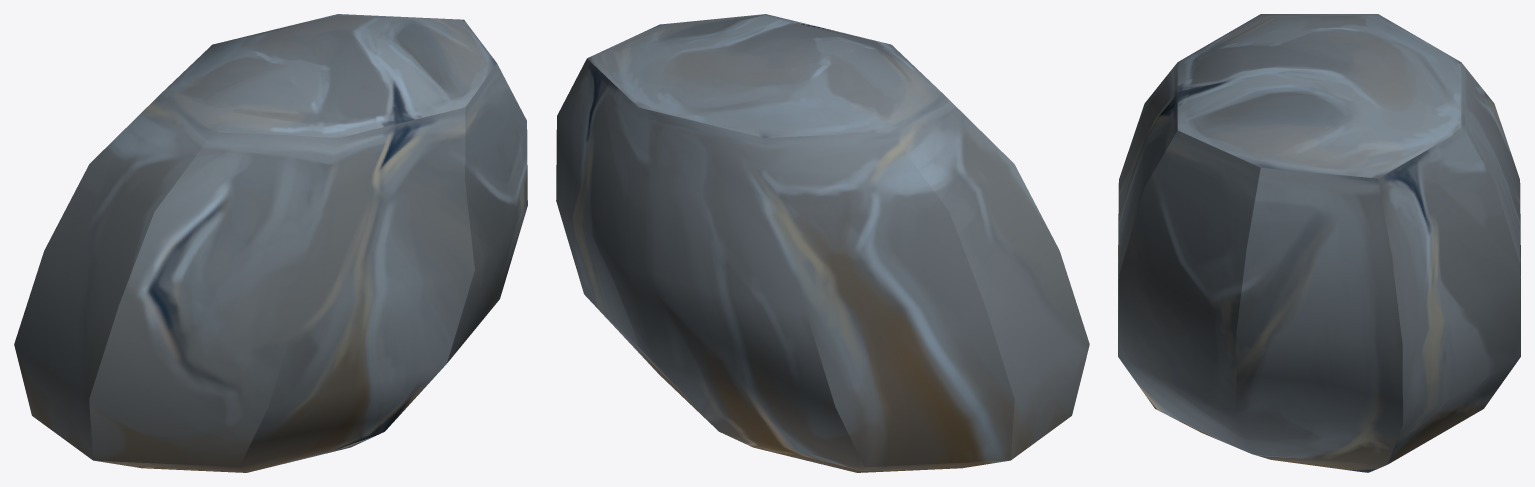
File: SM_rock6.fbx
3 views of the same model, side by side, from view 1: azimuth 30°, elevation 25°; view 2: azimuth 150°, elevation 25°; view 3: azimuth 270°, elevation 25° (orthographic). The views are drawn at different scales.
Parts seen in each view (by area): view 1: rock6; view 2: rock6; view 3: rock6.
Part boxes in pixels (x1,y1,x2,y2): rock6: (14, 14, 527, 472); rock6: (556, 14, 1089, 472); rock6: (1118, 14, 1520, 472).
Bounding box in the file's own units: 199 × 152 × 135.
